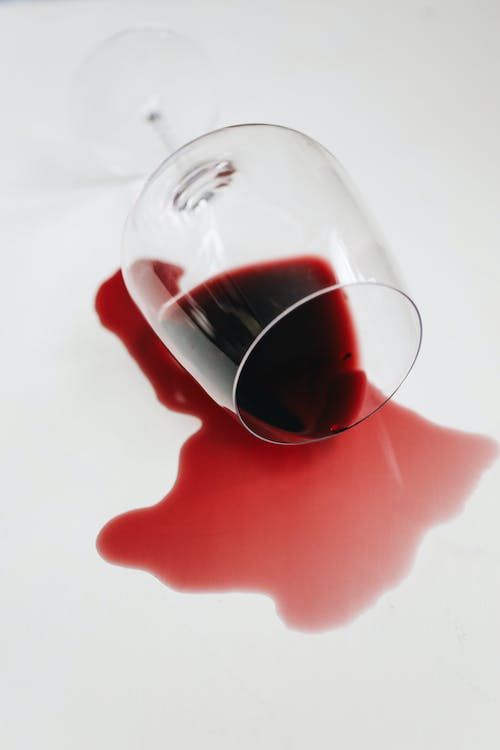alcohol: (66, 22, 424, 446)
